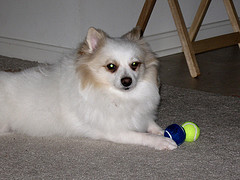tennis ball: (180, 118, 201, 144), (163, 124, 187, 146)
